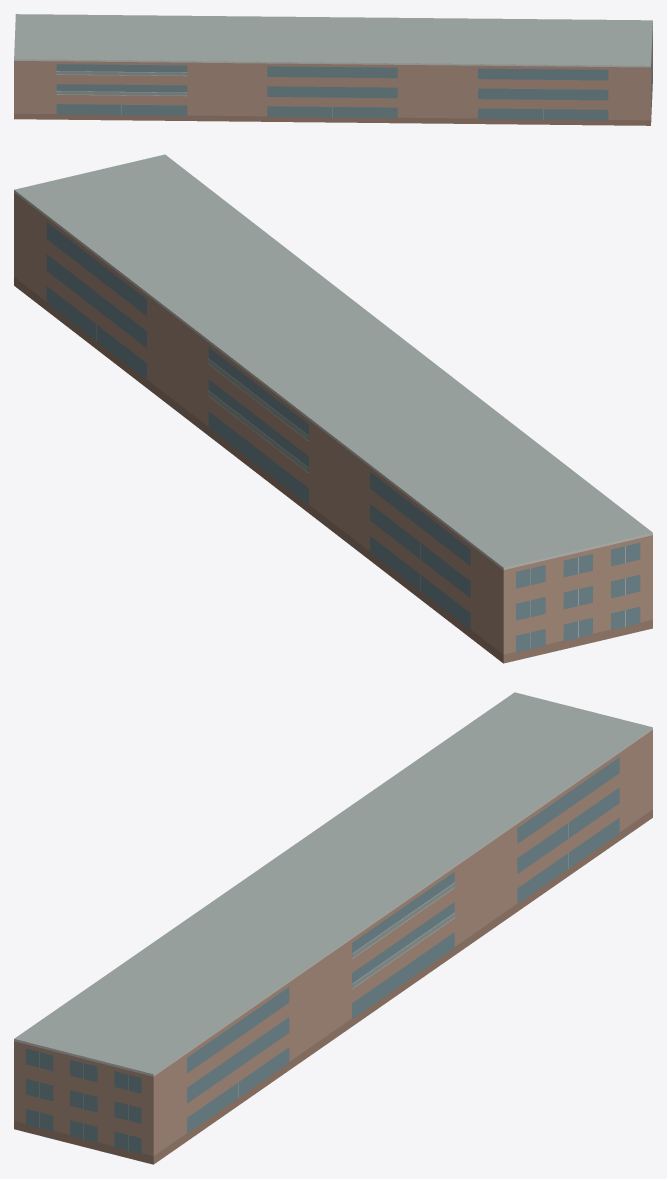
The model's file is survey-upis-32887142.glb.
3 views of the same model, one above another, from view 1: azimuth 30°, elevation 25°; view 2: azimuth 150°, elevation 25°; view 3: azimuth 270°, elevation 25° (orthographic). The views are drawn at different scales.
Visible parts, largest first — view 1: survey-upis-32887142.tmp; view 2: survey-upis-32887142.tmp; view 3: survey-upis-32887142.tmp.
Part boxes in pixels (<box>): survey-upis-32887142.tmp: <box>14,14,652,125</box>; survey-upis-32887142.tmp: <box>14,154,652,663</box>; survey-upis-32887142.tmp: <box>14,692,652,1164</box>.
Bounding box in the file's own units: 82.92 × 9.15 × 58.61.
